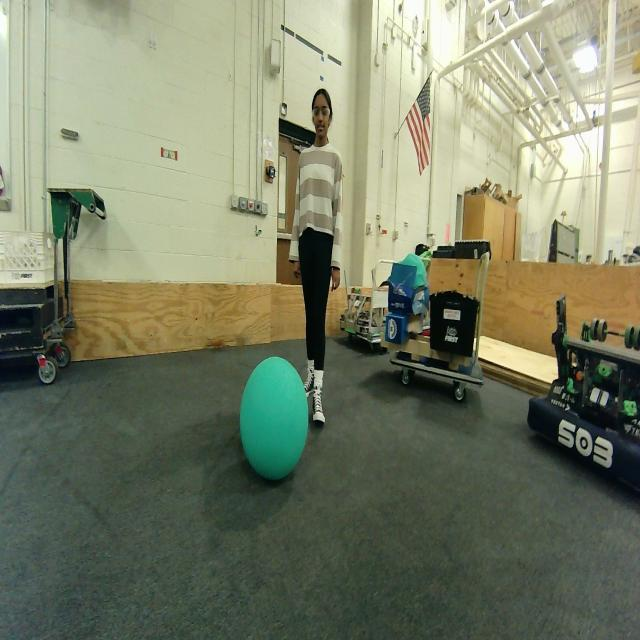algae: (236, 347, 317, 490)
